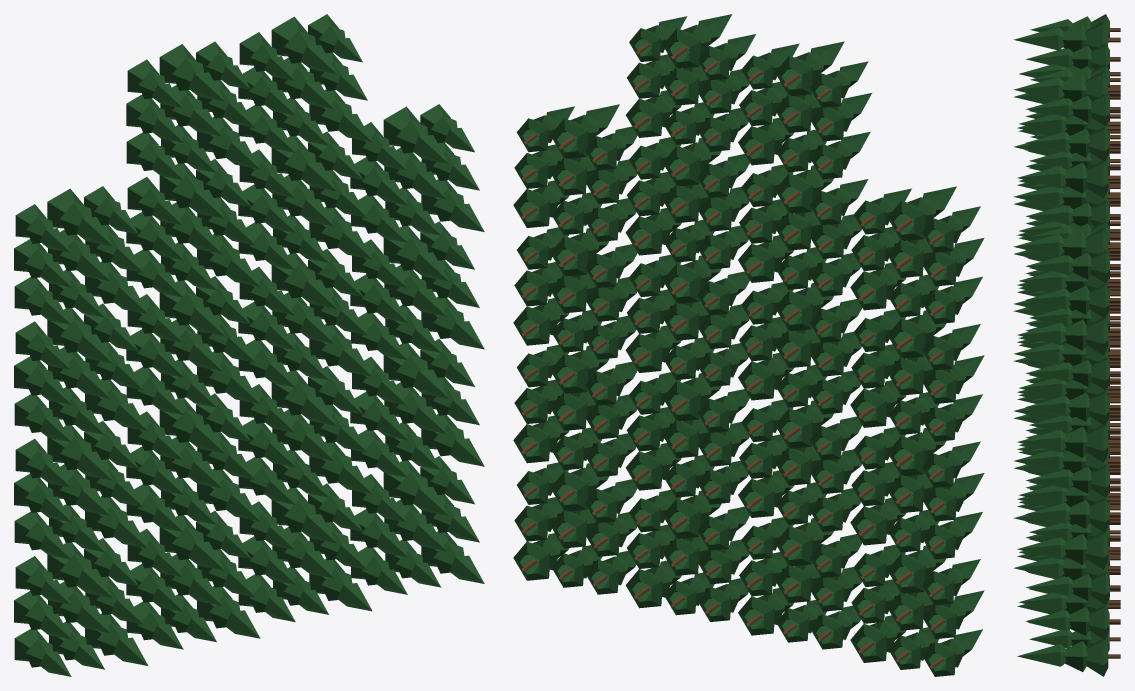
Rendered from construction_0.glb.
3 views of the same model, side by side, from view 1: azimuth 30°, elevation 25°; view 2: azimuth 150°, elevation 25°; view 3: azimuth 270°, elevation 25° (orthographic). The views are drawn at different scales.
Visible parts, largest first — view 1: t14_g16, t03_g16, t24_g16, t00_g16, t01_g16, t02_g16, t33_g16, t13_g16, t22_g16, t21_g16, t10_g16, t30_g16 (+6 smaller); view 2: t14_g16, t03_g16, t24_g16, t33_g16, t00_g16, t01_g16, t02_g16, t13_g16, t22_g16, t31_g16, t12_g16, t20_g16 (+6 smaller); view 3: t24_g16, t33_g16, t32_g16, t31_g16, t30_g16, t14_g16, t23_g16, t22_g16, t21_g16, t20_g16, t13_g16, t03_g16 (+6 smaller).
Boxes of the visible parts, <box> form: t14_g16: <box>126,41,260,180</box>; t03_g16: <box>14,186,148,324</box>; t24_g16: <box>238,14,372,152</box>; t00_g16: <box>14,538,148,676</box>; t01_g16: <box>14,421,148,559</box>; t02_g16: <box>14,303,148,442</box>; t33_g16: <box>350,104,484,242</box>; t13_g16: <box>126,159,260,297</box>; t22_g16: <box>238,249,372,387</box>; t21_g16: <box>238,366,372,504</box>; t10_g16: <box>126,511,260,649</box>; t30_g16: <box>350,456,484,594</box>; t14_g16: <box>738,41,871,179</box>; t03_g16: <box>850,186,984,324</box>; t24_g16: <box>626,14,755,151</box>; t33_g16: <box>513,104,637,241</box>; t00_g16: <box>850,544,984,676</box>; t01_g16: <box>850,427,984,559</box>; t02_g16: <box>850,309,984,441</box>; t13_g16: <box>738,164,868,296</box>; t22_g16: <box>625,254,749,386</box>; t31_g16: <box>513,345,637,476</box>; t12_g16: <box>738,282,862,414</box>; t20_g16: <box>625,490,749,621</box>; t24_g16: <box>1013,64,1120,198</box>; t33_g16: <box>1013,221,1120,355</box>; t32_g16: <box>1014,337,1120,462</box>; t31_g16: <box>1014,444,1120,569</box>; t30_g16: <box>1013,551,1120,676</box>; t14_g16: <box>1013,14,1120,135</box>; t23_g16: <box>1013,180,1120,292</box>; t22_g16: <box>1014,287,1120,399</box>; t21_g16: <box>1014,394,1120,506</box>; t20_g16: <box>1013,501,1120,614</box>; t13_g16: <box>1014,130,1120,239</box>; t03_g16: <box>1014,85,1120,189</box>.
Bounding box in the file's own units: 63.11 × 80.14 × 14.56.
